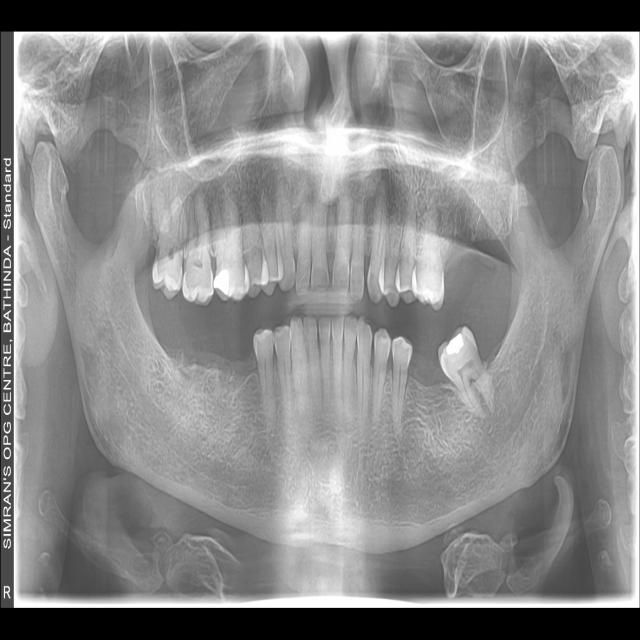Filling: (214, 268, 230, 295), (446, 333, 464, 355)
Missing teeth: (148, 292, 254, 374), (443, 235, 505, 301), (468, 289, 511, 357), (413, 343, 442, 386)
